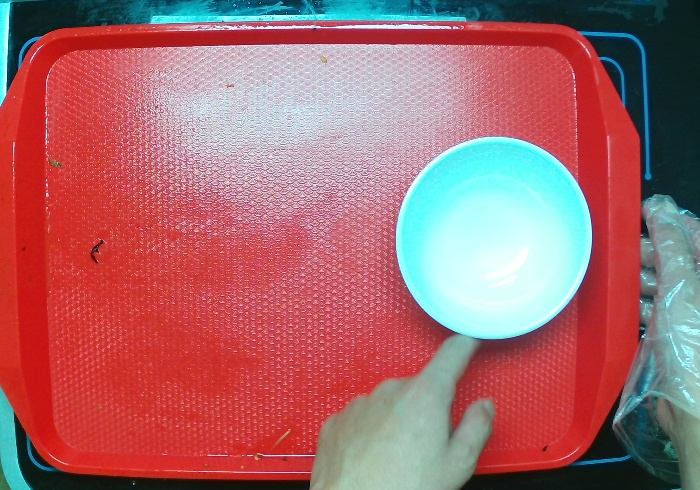YKMZ-Fan_Wan: (393, 137, 595, 338)
